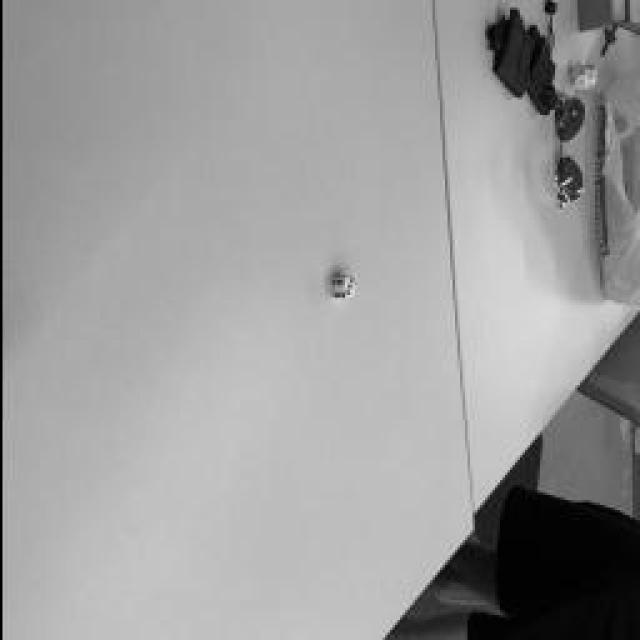dice_3: (342, 276, 352, 299)
